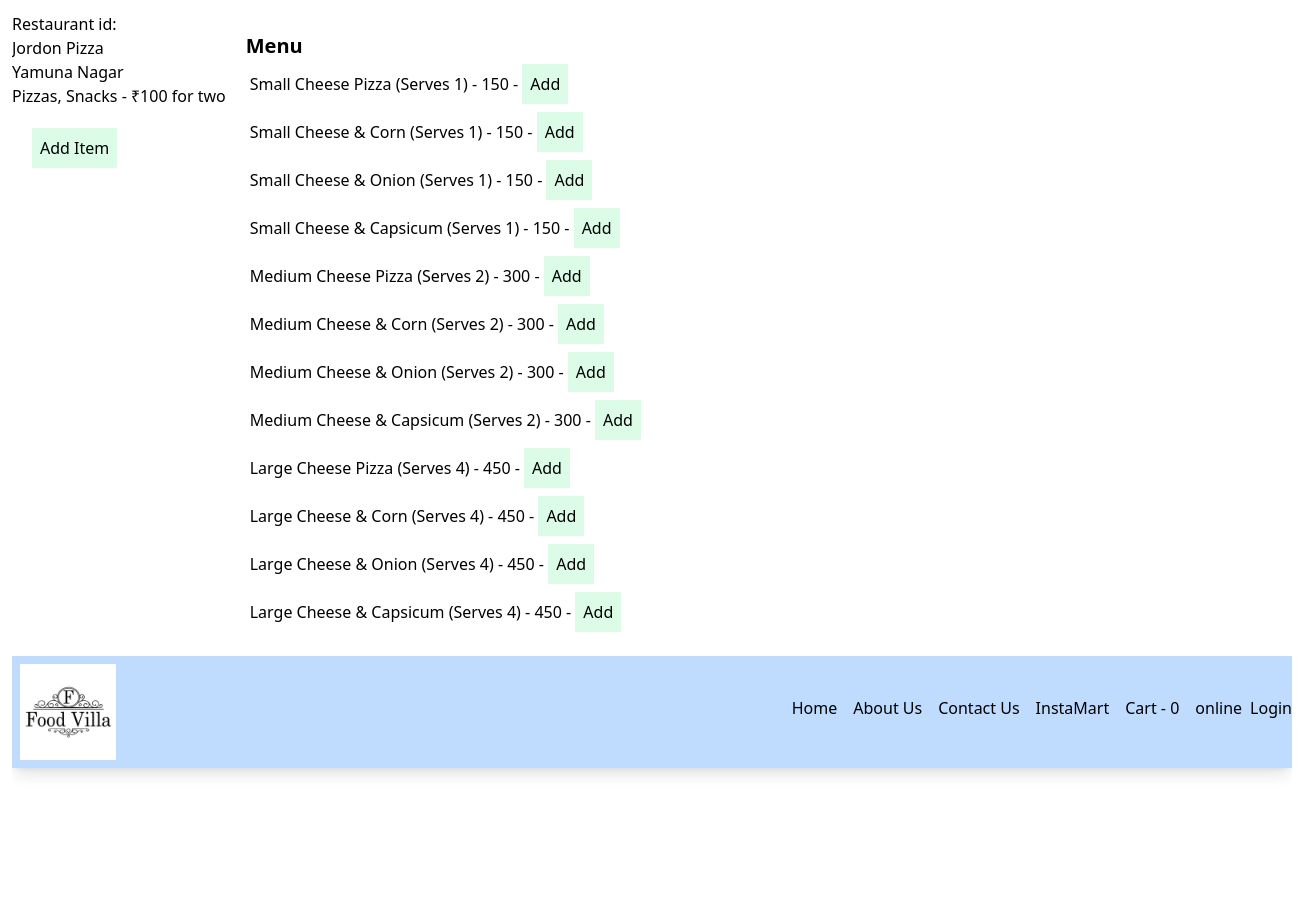
Add Items to Cart
The image size is (1304, 912).
Click the button with test id "add-item" in the row of "Small Cheese Pizza (Serves 1)" at (545, 84), box [522, 64, 568, 104]
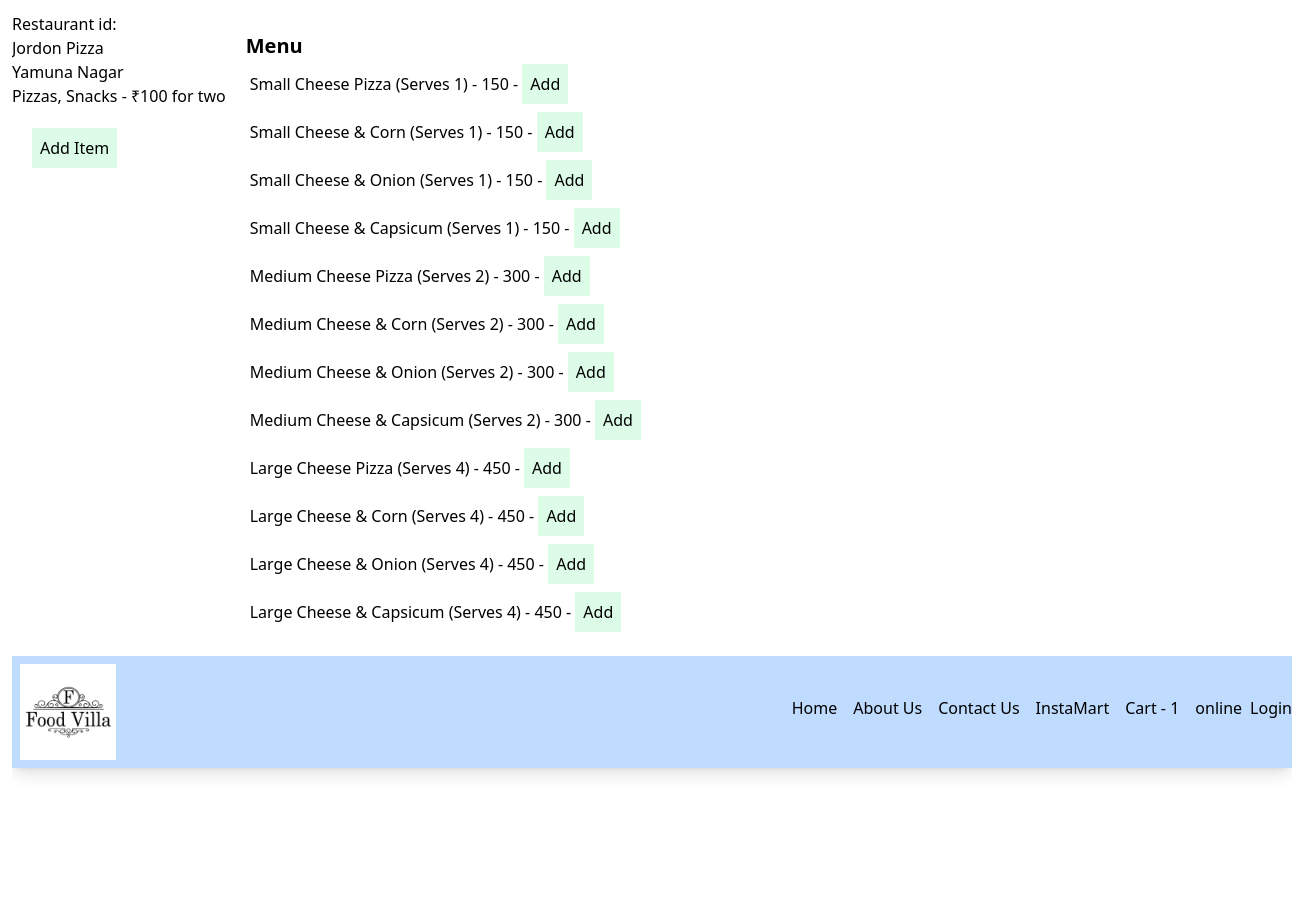
Click the button with test id "add-item" in the row of "Small Cheese & Corn (Serves 1)" at (560, 132), box [537, 112, 583, 152]
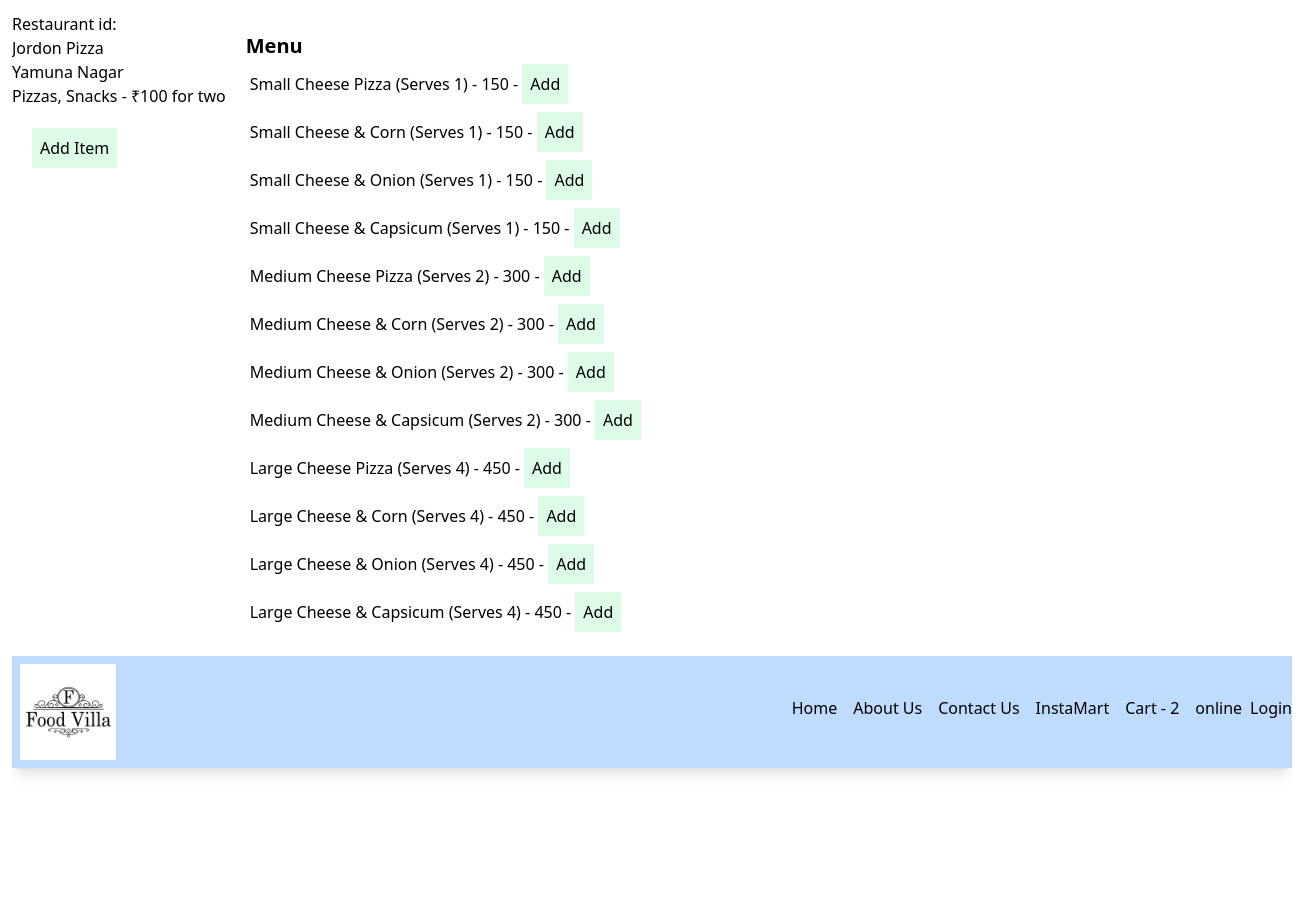
Check: the list item with test id "cart" reads "Cart - 2", box [1125, 697, 1179, 719]
